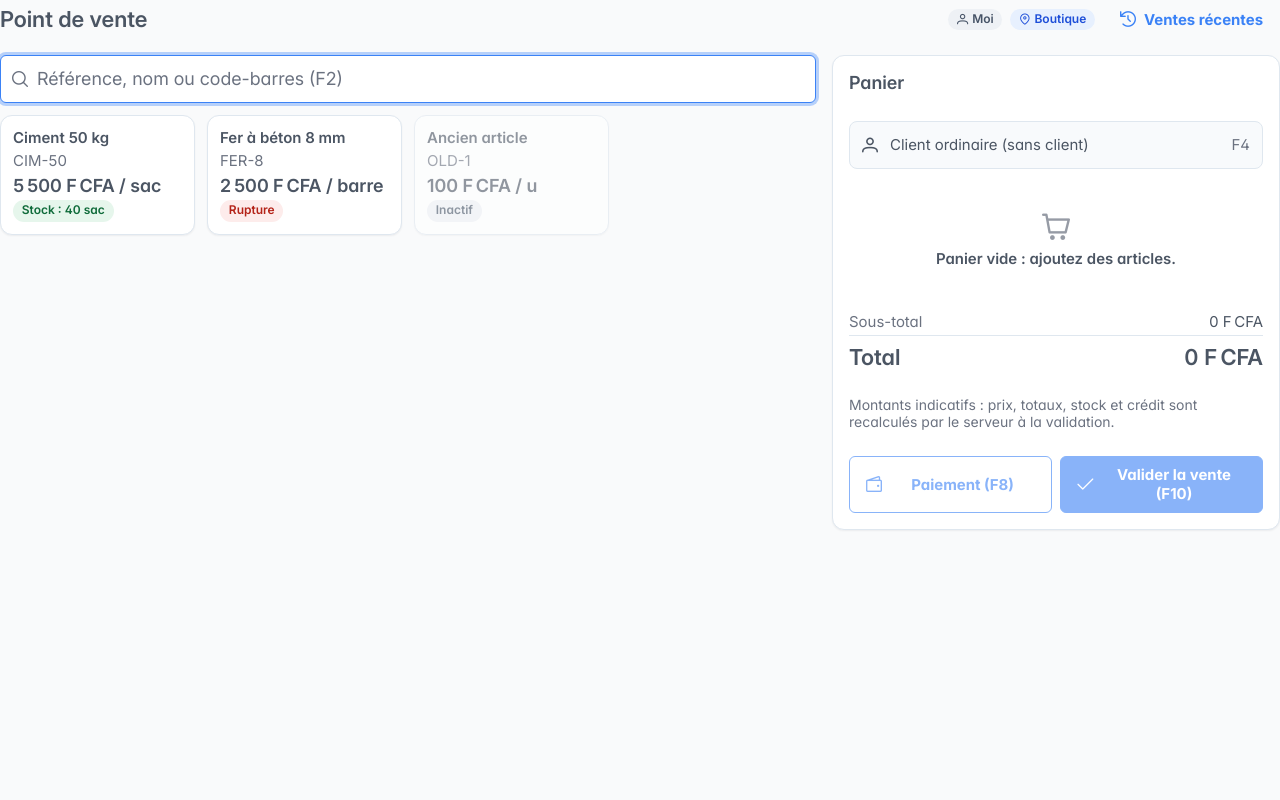
Test: point de vente › erreur métier du serveur (limite de crédit, caisse) : message traduit, panier conservé
Click the button with aria-label "Ajouter Ciment 50 kg au panier". click: click(98, 175)
box: x1=0 y1=115 x2=195 y2=235
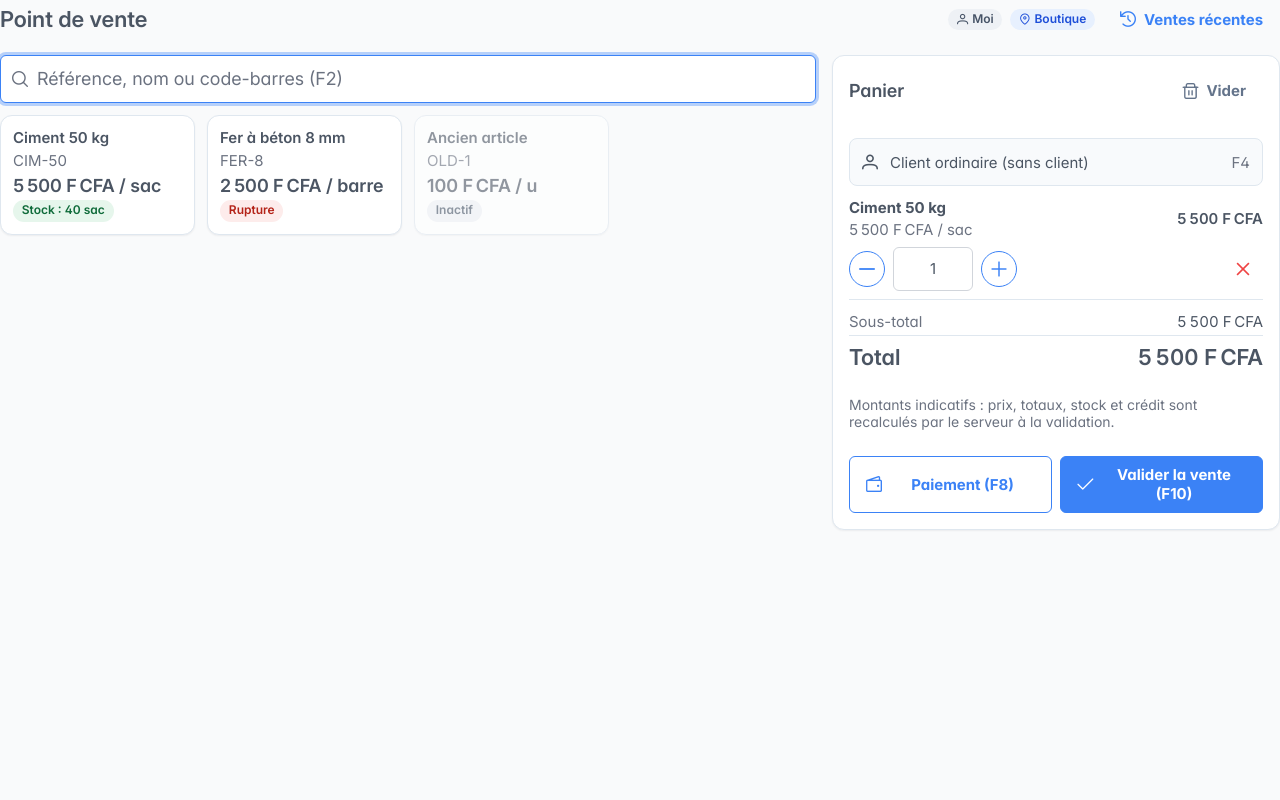
Click the button "Valider la vente (F10)". click: click(1162, 484)
box: x1=1060 y1=456 x2=1263 y2=513
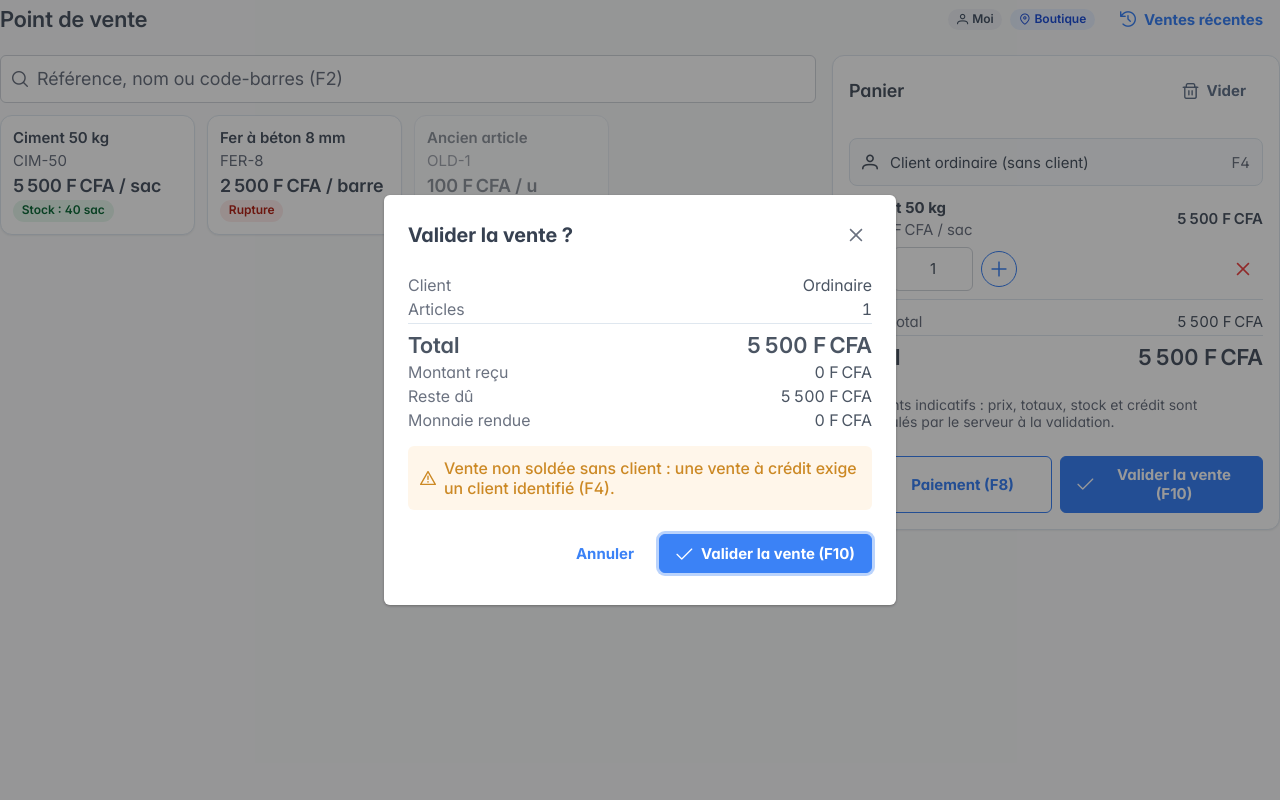
Expected: the dialog "Valider la vente ?" shows "une vente à crédit exige un client identifié", x1=444 y1=458 x2=857 y2=498
Click the button "Valider la vente (F10)". click: click(766, 554)
box: x1=659 y1=534 x2=872 y2=573
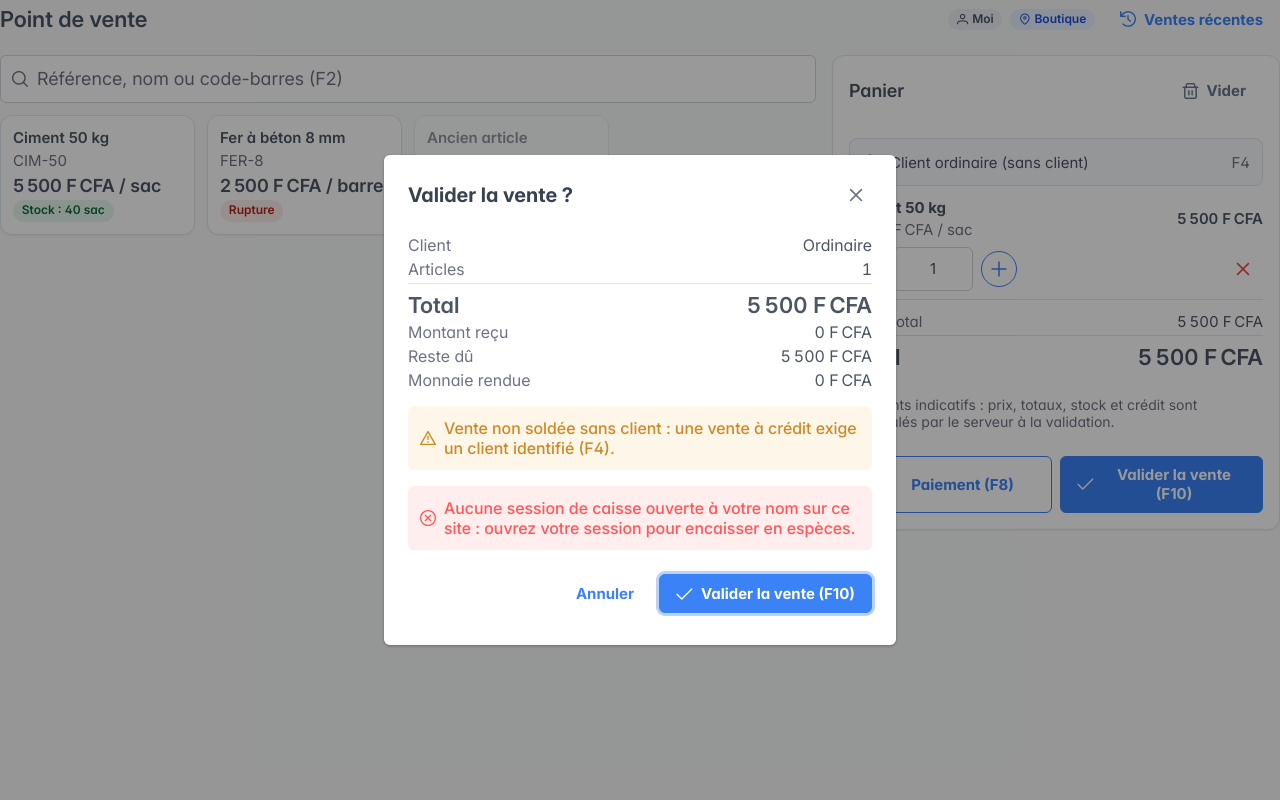
Expected: the field named "Quantité de Ciment 50 kg" is shown, x1=893 y1=247 x2=973 y2=291
Expected: the text "Aucune session de caisse ouverte à votre nom" is shown, x1=444 y1=498 x2=855 y2=538
